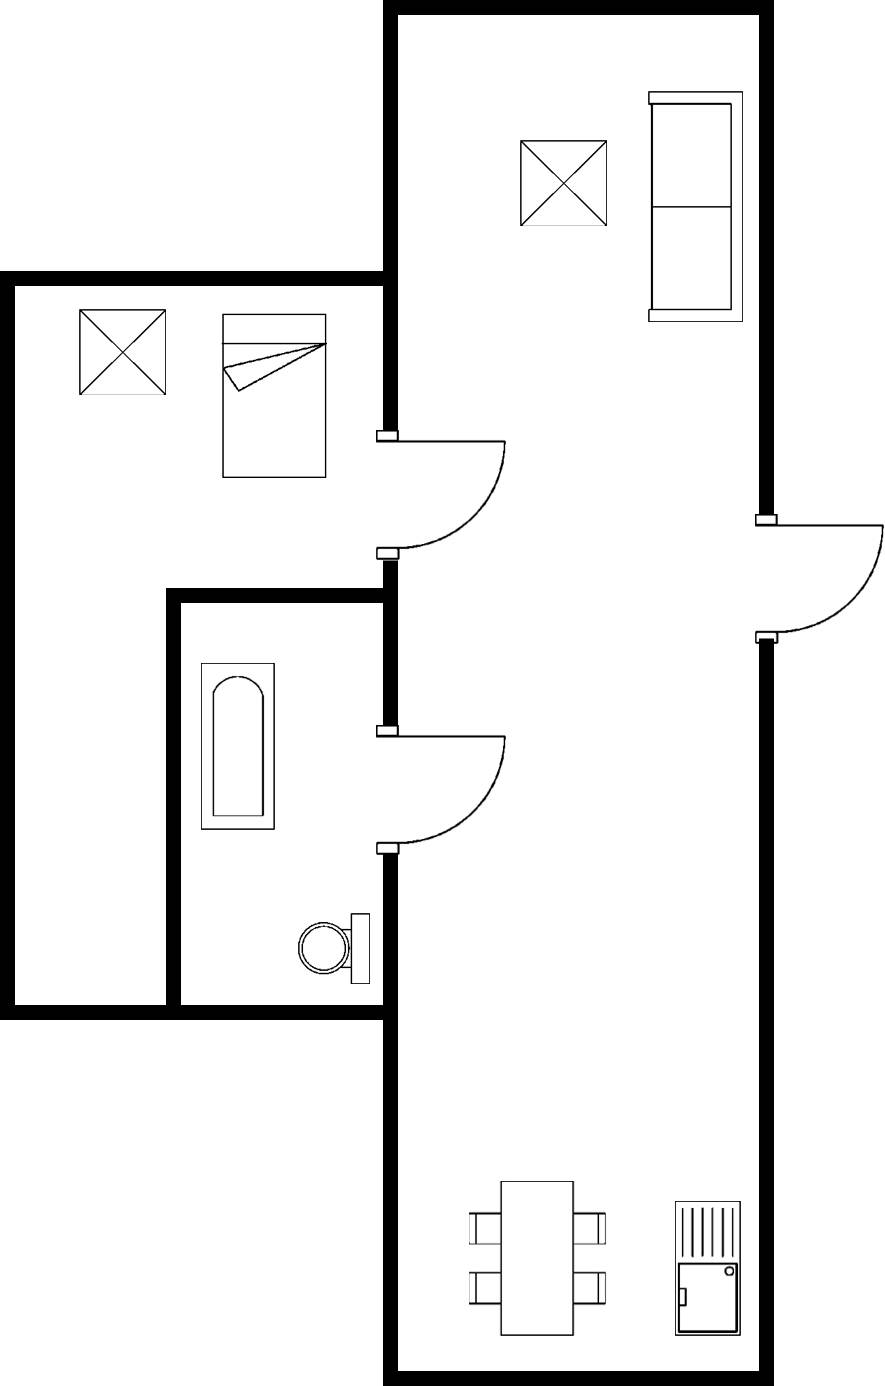bed: (215, 306, 332, 486)
coffee_table: (72, 302, 178, 406), (511, 134, 614, 233)
dining_table: (455, 1175, 615, 1348)
large_sink: (288, 903, 376, 990)
large_sofa: (638, 83, 749, 330)
sink: (663, 1192, 751, 1348)
tub: (186, 656, 291, 842)
